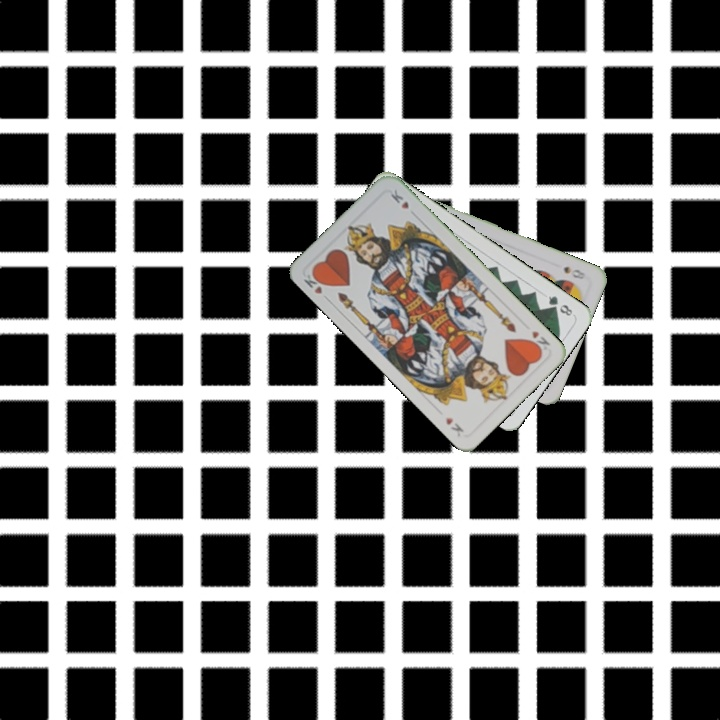G8: (544, 292, 575, 319)
HK: (300, 267, 332, 304), (525, 326, 553, 355)
S8: (559, 262, 588, 282)
